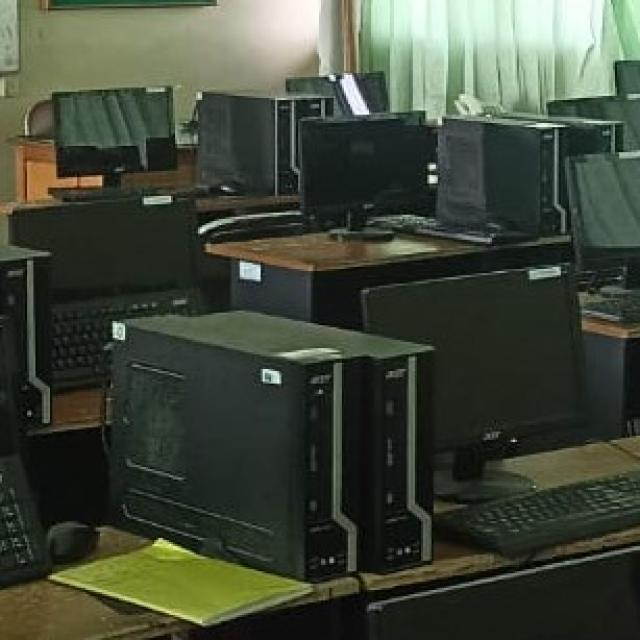offscreen: (363, 269, 580, 449), (13, 199, 194, 298), (300, 114, 437, 228), (54, 89, 173, 176)
